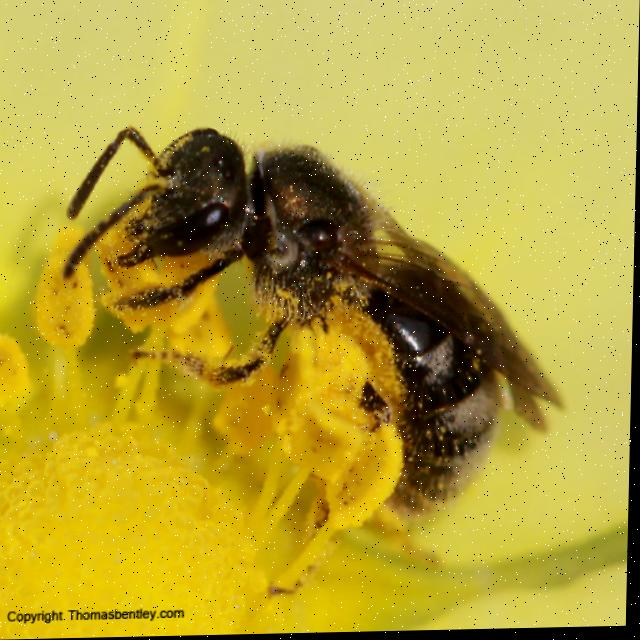Lasioglossum: (54, 104, 600, 537)
